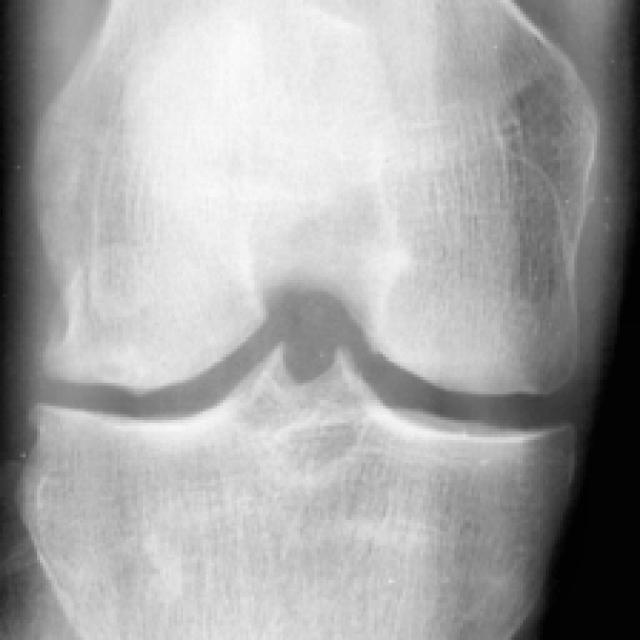femur: (40, 1, 591, 397)
tibia: (23, 346, 569, 637)
